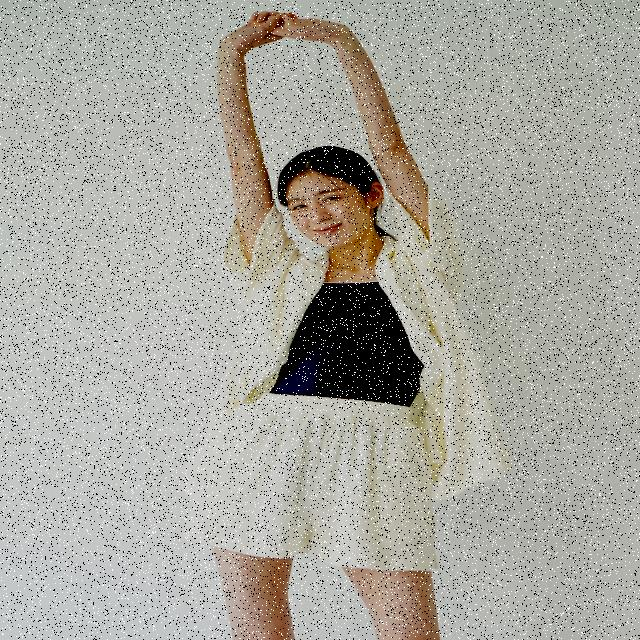Blouse_deep: (185, 203, 501, 482), (199, 382, 444, 578)
